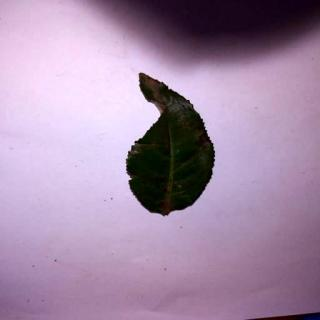Bird Eye Spot: (126, 73, 217, 217)
